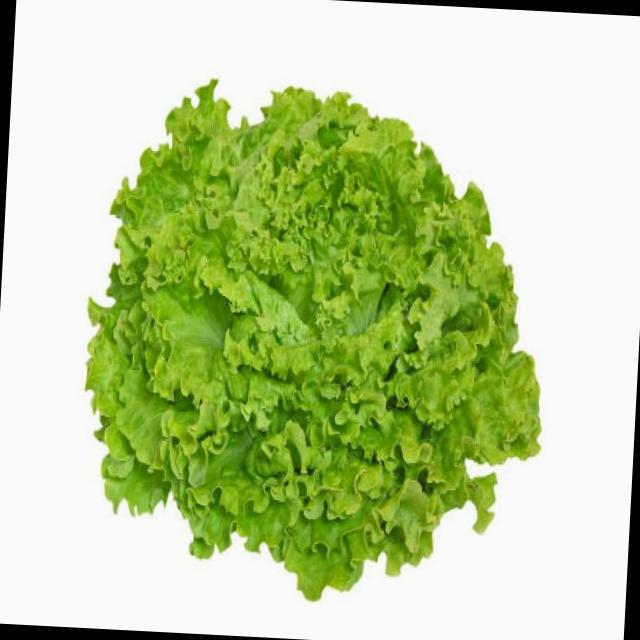Lettuce-Ready-to-Harvest: (87, 83, 539, 598)
